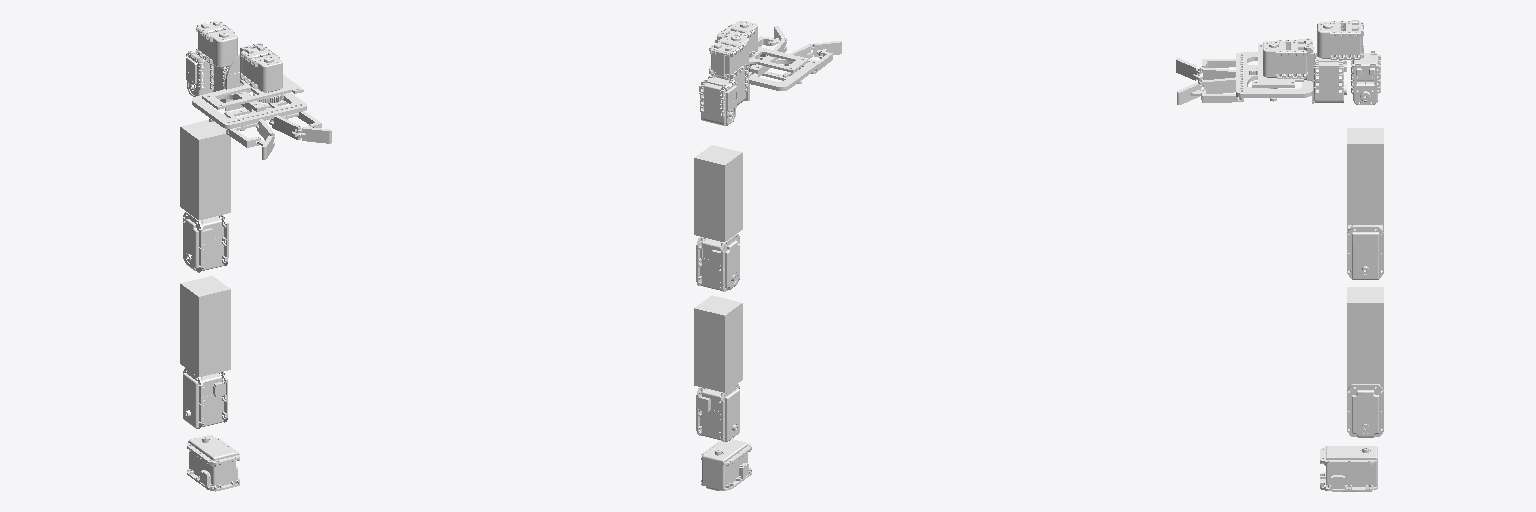
The robot description file, URDF, robot "mobile_manipulator":
<?xml version="1.0" ?>
<!-- =================================================================================== -->
<!-- |    This document was autogenerated by xacro from mobile_manipulator.xacro       | -->
<!-- |    EDITING THIS FILE BY HAND IS NOT RECOMMENDED                                 | -->
<!-- =================================================================================== -->
<robot name="mobile_manipulator" xmlns:xacro="http://www.ros.org/wiki/xacro">
  <material name="white">
    <color rgba="1 1 1 1"/>
  </material>
  <!-- MACROS -->
  <!-- Macros of the J plate -->
  <!-- Macros of the gripper -->
  <!-- LINKS -->
  <!--link name="bot">
    <xacro:BotInertial trans="0 0 0" rpy="0 0 0 "/>  
    <xacro:BotVisual trans="0 0 0" rpy="0 0 0 "/>
    <xacro:BotCollision trans="0 0 0" rpy="0 0 0"/>
  </link-->
  <link name="shoulder_yaw_motor">
    <inertial>
      <origin rpy="0 0 0 " xyz="0 0 0"/>
      <mass value="0.140"/>
      <inertia ixx="0.000050799110" ixy="0.0" ixz="0.0" iyy="0.00002857215" iyz="0.00000051457" izz="0.000043394"/>
    </inertial>
    <visual>
      <origin rpy="0 0 0 " xyz="0 0.188 0.2349"/>
      <geometry>
        <mesh filename="package://mobile_manipulator/meshes/dynamixel_x64series.stl" scale="0.001 0.001 0.001"/>
      </geometry>
      <material name="white"/>
    </visual>
    <collision>
      <origin rpy="0 0 0" xyz="0 0.188 0.2349"/>
      <geometry>
        <box size="0.041 0.0402 0.0611"/>
      </geometry>
    </collision>
  </link>
  <link name="shoulder_bracket">
    <inertial>
      <origin rpy="0 3.14 0 " xyz="0 0 0.025"/>
      <mass value="0.00712"/>
      <inertia ixx="0.00000174511" ixy="0.0" ixz="0.0" iyy="0.00000379922" iyz="0.0" izz="0.00000357521"/>
    </inertial>
    <visual>
      <origin rpy="0 3.14 0 " xyz="0 0 0"/>
      <geometry>
        <mesh filename="package://mobile_manipulator/meshes/FR05-H101K.stl" scale="0.001 0.001 0.001"/>
      </geometry>
      <material name="white"/>
    </visual>
    <collision>
      <origin rpy="0 3.14 0 " xyz="0 0 0"/>
      <geometry>
        <mesh filename="package://mobile_manipulator/meshes/FR05-H101K.stl" scale="0.001 0.001 0.001"/>
      </geometry>
    </collision>
  </link>
  <link name="shoulder_pitch_motor">
    <inertial>
      <origin rpy="1.57 -3.14 1.57" xyz="0 0 0"/>
      <mass value="0.140"/>
      <inertia ixx="0.000050799110" ixy="0.0" ixz="0.0" iyy="0.00002857215" iyz="0.00000051457" izz="0.000043394"/>
    </inertial>
    <visual>
      <origin rpy="1.57 -3.14 1.57" xyz="0 0 0"/>
      <geometry>
        <mesh filename="package://mobile_manipulator/meshes/dynamixel_x64series.stl" scale="0.001 0.001 0.001"/>
      </geometry>
      <material name="white"/>
    </visual>
    <collision>
      <origin rpy="1.57 -3.14 1.57" xyz="0 0 0"/>
      <geometry>
        <box size="0.041 0.0602 0.1480"/>
      </geometry>
    </collision>
  </link>
  <link name="biscep">
    <inertial>
      <origin rpy="0 0 0" xyz="0 0 0.099"/>
      <mass value="0.00048"/>
      <inertia ixx="0.000050799110" ixy="0.0" ixz="0.0" iyy="0.00002857215" iyz="0.00000051457" izz="0.000043394"/>
    </inertial>
    <visual>
      <origin rpy="0 0 0" xyz="0 0 0.099"/>
      <geometry>
        <box size="0.04 0.04 0.096"/>
      </geometry>
      <material name="white"/>
    </visual>
    <collision>
      <origin rpy="0 0 0" xyz="0 0 0.099"/>
      <geometry>
        <box size="0.04 0.04 0.096"/>
      </geometry>
    </collision>
  </link>
  <link name="elbow_bracket">
    <inertial>
      <origin rpy="0 3.14 0" xyz="0 0 0.148"/>
      <mass value="0.00712"/>
      <inertia ixx="0.00000174511" ixy="0.0" ixz="0.0" iyy="0.00000379922" iyz="0.0" izz="0.00000357521"/>
    </inertial>
    <visual>
      <origin rpy="0 3.14 0" xyz="0 0 0.148"/>
      <geometry>
        <mesh filename="package://mobile_manipulator/meshes/FR05-H101K.stl" scale="0.001 0.001 0.001"/>
      </geometry>
      <material name="white"/>
    </visual>
    <collision>
      <origin rpy="0 3.14 0" xyz="0 0 0.148"/>
      <geometry>
        <mesh filename="package://mobile_manipulator/meshes/FR05-H101K.stl" scale="0.001 0.001 0.001"/>
      </geometry>
    </collision>
  </link>
  <link name="elbow_motor">
    <inertial>
      <origin rpy="1.57 0 0" xyz="0 0 0"/>
      <mass value="0.140"/>
      <inertia ixx="0.000050799110" ixy="0.0" ixz="0.0" iyy="0.00002857215" iyz="0.00000051457" izz="0.000043394"/>
    </inertial>
    <visual>
      <origin rpy="1.57 3.14 -1.57" xyz="0 0 0"/>
      <geometry>
        <mesh filename="package://mobile_manipulator/meshes/dynamixel_x64series.stl" scale="0.001 0.001 0.001"/>
      </geometry>
      <material name="white"/>
    </visual>
    <collision>
      <origin rpy="1.57 3.14 -1.57" xyz="0 0 0"/>
      <geometry>
        <box size="0.041 0.0402 0.0611"/>
      </geometry>
    </collision>
  </link>
  <link name="forearm">
    <inertial>
      <origin rpy="0 0 0" xyz="0 0 0.1"/>
      <mass value="0.00048"/>
      <inertia ixx="0.000050799110" ixy="0.0" ixz="0.0" iyy="0.00002857215" iyz="0.00000051457" izz="0.000043394"/>
    </inertial>
    <visual>
      <origin rpy="0 0 0" xyz="0 0 0.1"/>
      <geometry>
        <box size="0.04 0.04 0.096"/>
      </geometry>
      <material name="white"/>
    </visual>
    <collision>
      <origin rpy="0 0 0" xyz="0 0 0.1"/>
      <geometry>
        <box size="0.04 0.04 0.096"/>
      </geometry>
    </collision>
  </link>
  <link name="wrist_bracket">
    <inertial>
      <origin rpy="1.57 0 1.57" xyz="0 0 0.202"/>
      <mass value="0.00712"/>
      <inertia ixx="0.00000174511" ixy="0.0" ixz="0.0" iyy="0.00000379922" iyz="0.0" izz="0.00000357521"/>
    </inertial>
    <visual>
      <origin rpy="1.57 0 1.57" xyz="0 0 0.202"/>
      <geometry>
        <mesh filename="package://mobile_manipulator/meshes/F4.stl" scale="0.001 0.001 0.001"/>
      </geometry>
      <material name="white"/>
    </visual>
    <collision>
      <origin rpy="1.57 0 1.57" xyz="0 0 0.202"/>
      <geometry>
        <mesh filename="package://mobile_manipulator/meshes/F4.stl" scale="0.001 0.001 0.001"/>
      </geometry>
    </collision>
  </link>
  <link name="wrist_pitch_motor">
    <inertial>
      <origin rpy="-1.57 0 -1.57" xyz="0 0 0"/>
      <mass value="0.05573"/>
      <inertia ixx="0.00001611154" ixy="0.00000001397" ixz="0.0" iyy="0.00000888743" iyz="0.00000015948" izz="0.00001354172"/>
    </inertial>
    <visual>
      <origin rpy="-1.57 0 -1.57" xyz="0 0 0"/>
      <geometry>
        <mesh filename="package://mobile_manipulator/meshes/AX-12_18A - dynamixel_AXseries-1.stl" scale="0.001 0.001 0.001"/>
      </geometry>
      <material name="white"/>
    </visual>
    <collision>
      <origin rpy="-1.57 0 -1.57" xyz="0 0 0"/>
      <geometry>
        <box size="0.032 0.04 0.05"/>
      </geometry>
    </collision>
  </link>
  <link name="wrist_yaw_motor">
    <inertial>
      <origin rpy="0 0 0" xyz="0 0.04 0.058"/>
      <mass value="0.05573"/>
      <inertia ixx="0.00001611154" ixy="0.00000001397" ixz="0.0" iyy="0.00000888743" iyz="0.00000015948" izz="0.00001354172"/>
    </inertial>
    <visual>
      <origin rpy="0 3.14 0" xyz="0 0.04 0.058"/>
      <geometry>
        <mesh filename="package://mobile_manipulator/meshes/AX-12_18A - dynamixel_AXseries-1.stl" scale="0.001 0.001 0.001"/>
      </geometry>
      <material name="white"/>
    </visual>
    <collision>
      <origin rpy="0 3.14 0" xyz="0 0.04 0.058"/>
      <geometry>
        <box size="0.032 0.04 0.05"/>
      </geometry>
    </collision>
  </link>
  <link name="wrist_roll_motor">
    <inertial>
      <origin rpy="-1.57 3.14 0" xyz="0 0.019 0.0788"/>
      <mass value="0.05573"/>
      <inertia ixx="0.00001611154" ixy="0.00000001397" ixz="0.0" iyy="0.00000888743" iyz="0.00000015948" izz="0.00001354172"/>
    </inertial>
    <visual>
      <origin rpy="-1.57 3.14 0" xyz="0.008 0.019 0.0788"/>
      <geometry>
        <mesh filename="package://mobile_manipulator/meshes/AX-12_18A - dynamixel_AXseries-1.stl" scale="0.001 0.001 0.001"/>
      </geometry>
      <material name="white"/>
    </visual>
    <collision>
      <origin rpy="-1.57 3.14 0" xyz="0.008 0.019 0.0788"/>
      <geometry>
        <box size="0.032 0.04 0.05"/>
      </geometry>
    </collision>
  </link>
  <link name="roll_j_plate">
    <inertial>
      <origin rpy="3.14 1.57 -1.57" xyz="0.015 0.0147 0.058"/>
      <mass value="0.140"/>
      <inertia ixx="0.000050799110" ixy="0.0" ixz="0.0" iyy="0.00002857215" iyz="0.00000051457" izz="0.000043394"/>
    </inertial>
    <visual>
      <origin rpy="3.14 1.57 -1.57" xyz="0.015 0.0147 0.058"/>
      <geometry>
        <mesh filename="package://mobile_manipulator/meshes/gripper_Centering.stl" scale="0.001 0.001 0.001"/>
      </geometry>
      <material name="white"/>
    </visual>
    <collision>
      <origin rpy="3.14 1.57 -1.57" xyz="0.015 0.0147 0.058"/>
      <geometry>
        <mesh filename="package://mobile_manipulator/meshes/gripper_Centering.stl" scale="0.001 0.001 0.001"/>
      </geometry>
    </collision>
  </link>
  <link name="gripper">
    <inertial>
      <origin rpy="-3.14 0 -3.14" xyz="-0.01430116 0.0807162 0.015"/>
      <mass value="0.140"/>
      <inertia ixx="0.000050799110" ixy="0.0" ixz="0.0" iyy="0.00002857215" iyz="0.00000051457" izz="0.000043394"/>
    </inertial>
    <visual>
      <origin rpy="-3.14 3.14 -3.14" xyz="-0.01430116 0.0807162 0.015"/>
      <geometry>
        <mesh filename="package://mobile_manipulator/meshes/gripper.stl" scale="0.001 0.001 0.001"/>
      </geometry>
      <material name="white"/>
    </visual>
    <collision>
      <origin rpy="-3.14 3.14 -3.14" xyz="-0.01430116 0.0807162 0.015"/>
      <geometry>
        <mesh filename="package://mobile_manipulator/meshes/gripper.stl" scale="0.001 0.001 0.001"/>
      </geometry>
    </collision>
  </link>
  <joint name="shoulder_yaw" type="revolute">
    <origin rpy="0 0 3.14" xyz="0 0.188 0.2577"/>
    <parent link="shoulder_yaw_motor"/>
    <child link="shoulder_bracket"/>
    <axis xyz="0 0 1"/>
    <limit effort="30" lower="-3.0357" upper="3.24426" velocity="1.0"/>
  </joint>
  <joint name="shoulder_pitch" type="revolute">
    <origin rpy="0 0 0" xyz="0 0 0.035"/>
    <parent link="shoulder_bracket"/>
    <child link="shoulder_pitch_motor"/>
    <axis xyz="1 0 0"/>
    <limit effort="30" lower="-1.973232422" upper="1.916503906" velocity="1.0"/>
  </joint>
  <joint name="s1_l2" type="fixed">
    <parent link="shoulder_pitch_motor"/>
    <child link="biscep"/>
  </joint>
  <joint name="l2_l2B" type="fixed">
    <parent link="biscep"/>
    <child link="elbow_bracket"/>
  </joint>
  <joint name="elbow" type="revolute">
    <origin rpy="0 0 0" xyz="0 0 0.186"/>
    <parent link="elbow_bracket"/>
    <child link="elbow_motor"/>
    <axis xyz="1 0 0"/>
    <limit effort="30" lower="-1.99" upper="1.971699219" velocity="1.0"/>
  </joint>
  <joint name="e_l3" type="fixed">
    <parent link="elbow_motor"/>
    <child link="forearm"/>
  </joint>
  <joint name="l3_l3B" type="fixed">
    <parent link="forearm"/>
    <child link="wrist_bracket"/>
  </joint>
  <joint name="wrist_pitch" type="revolute">
    <origin rpy="0 0 0" xyz="0 0 0.202"/>
    <parent link="wrist_bracket"/>
    <child link="wrist_pitch_motor"/>
    <axis xyz="1 0 0"/>
    <limit effort="30" lower="-2.36344086" upper="2.368556533" velocity="1.0"/>
  </joint>
  <joint name="WP_WY" type="fixed">
    <parent link="wrist_pitch_motor"/>
    <child link="wrist_yaw_motor"/>
  </joint>
  <joint name="wrist_yaw" type="revolute">
    <origin rpy="0 3.14 0" xyz="0 0.02 0.082"/>
    <parent link="wrist_yaw_motor"/>
    <child link="wrist_roll_motor"/>
    <axis xyz="0 0 1"/>
    <limit effort="30" lower="-2" upper="+2" velocity="1.0"/>
  </joint>
  <joint name="wrist_roll" type="revolute">
    <origin rpy="0 3.14 0" xyz="0 0.02 0.082"/>
    <parent link="wrist_roll_motor"/>
    <child link="roll_j_plate"/>
    <axis xyz="0 1 0"/>
    <limit effort="30" lower="-2" upper="+2" velocity="1.0"/>
  </joint>
  <joint name="roll_plate_gripper" type="fixed">
    <parent link="roll_j_plate"/>
    <child link="gripper"/>
  </joint>
</robot>

--- What the picture shows (computed from the rendered views, not written in the file) ---
Views: 3 orthographic renders of the robot side by side, from view 1: azimuth 30°, elevation 25°; view 2: azimuth 150°, elevation 25°; view 3: azimuth 270°, elevation 25°.
Robot: mobile_manipulator — 13 links, 12 joints (6 revolute, 6 fixed); root link shoulder_yaw_motor; default pose: all joints at 0.
Visible links, largest first — view 1: gripper, biscep, forearm, elbow_motor, shoulder_yaw_motor, shoulder_pitch_motor, wrist_yaw_motor, wrist_pitch_motor, wrist_roll_motor; view 2: forearm, biscep, gripper, elbow_motor, shoulder_pitch_motor, shoulder_yaw_motor, wrist_pitch_motor, wrist_yaw_motor; view 3: gripper, biscep, forearm, shoulder_yaw_motor, elbow_motor, shoulder_pitch_motor, wrist_yaw_motor, wrist_pitch_motor, wrist_roll_motor.
Boxes of the visible links, x1,y1,x2,y2 form: gripper: (192, 43, 331, 159); biscep: (180, 276, 230, 376); forearm: (180, 120, 230, 219); elbow_motor: (183, 212, 228, 272); shoulder_yaw_motor: (187, 435, 239, 491); shoulder_pitch_motor: (183, 368, 227, 428); wrist_yaw_motor: (196, 21, 237, 67); wrist_pitch_motor: (186, 50, 212, 96); wrist_roll_motor: (210, 64, 242, 102); forearm: (694, 145, 742, 241); biscep: (694, 295, 742, 392); gripper: (709, 20, 841, 90); elbow_motor: (696, 234, 739, 291); shoulder_pitch_motor: (696, 384, 739, 441); shoulder_yaw_motor: (701, 439, 751, 490); wrist_pitch_motor: (699, 75, 736, 125); wrist_yaw_motor: (709, 34, 748, 78); gripper: (1176, 38, 1312, 104); biscep: (1347, 287, 1383, 383); forearm: (1347, 128, 1383, 224); shoulder_yaw_motor: (1320, 446, 1377, 491); elbow_motor: (1347, 225, 1383, 279); shoulder_pitch_motor: (1347, 384, 1383, 437); wrist_yaw_motor: (1317, 20, 1363, 59); wrist_pitch_motor: (1351, 51, 1380, 104); wrist_roll_motor: (1311, 53, 1346, 102).
Size in the robot's own frame: 0.1067 by 0.2227 by 0.5448 metres.
Meshes: 6 distinct files referenced, 8 mesh visuals loaded (4 binary STL); not drawn: 3 (reference not matched to a file when rendering).